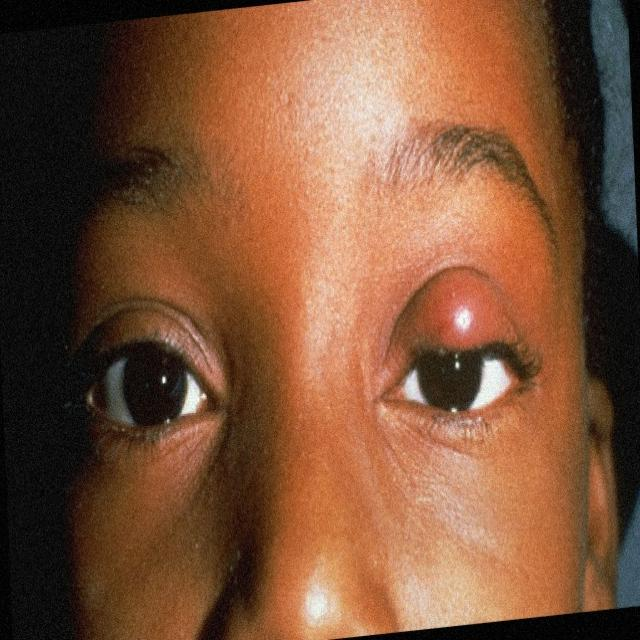Chalazion: (375, 243, 549, 470)
Healthy-Eye: (66, 271, 231, 489)
